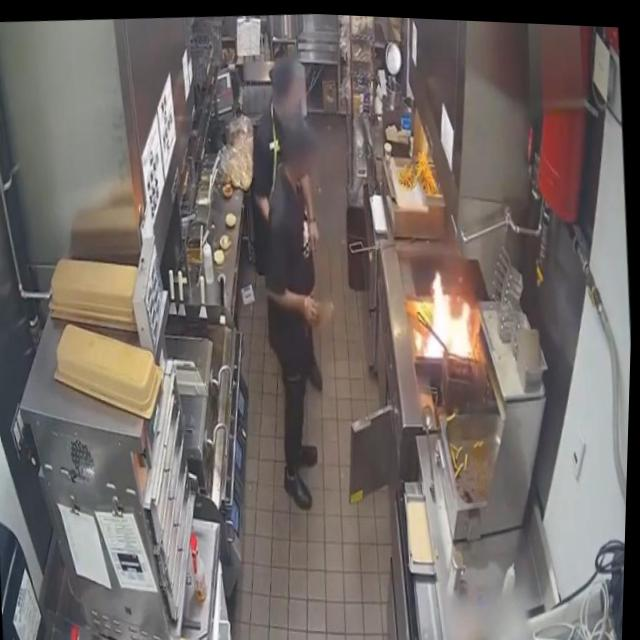fire: (412, 261, 482, 359)
